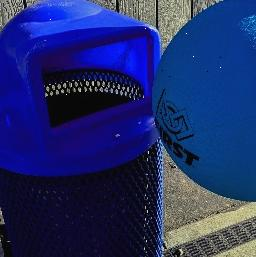algae: (146, 0, 256, 200)
